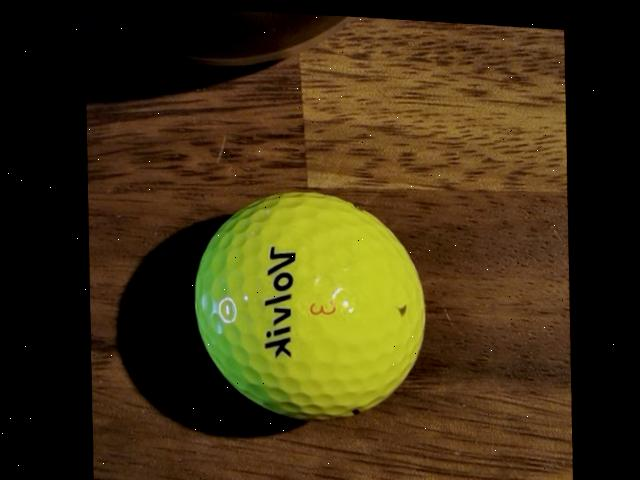Ball: (188, 183, 431, 425)
Volvik: (261, 243, 299, 358)
